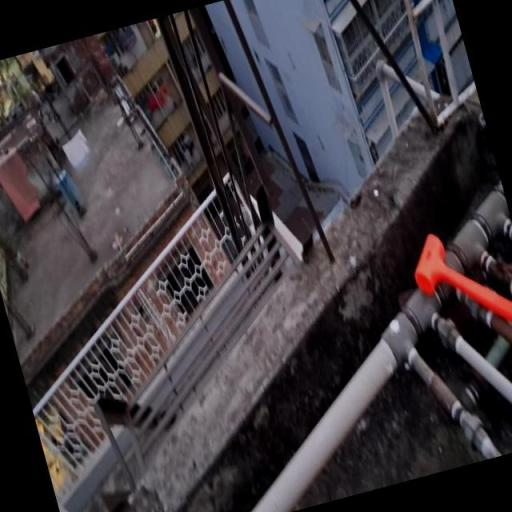mallet: (405, 212, 512, 368)
